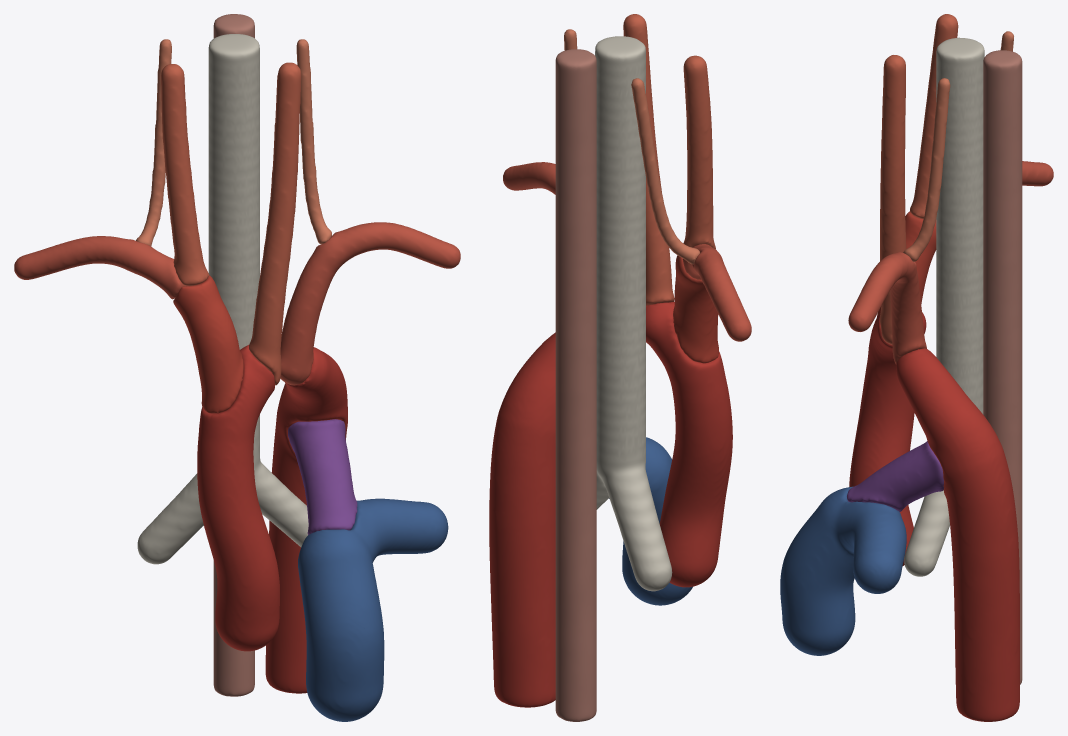
File: aorta_iaa_b.glb
3 views of the same model, side by side, from view 1: azimuth 30°, elevation 25°; view 2: azimuth 150°, elevation 25°; view 3: azimuth 270°, elevation 25° (orthographic). The views are drawn at different scales.
Parts seen in each view (by area): view 1: aorta, trachea, pulmonary_trunk, left_common_carotid, left_subclavian, right_common_carotid, patent_ductus, brachiocephalic_trunk, right_subclavian, oesophagus, left_vertebral, right_vertebral; view 2: aorta, oesophagus, trachea, right_common_carotid, brachiocephalic_trunk, left_common_carotid, right_subclavian, right_vertebral, pulmonary_trunk, left_subclavian; view 3: aorta, trachea, oesophagus, pulmonary_trunk, left_common_carotid, left_subclavian, patent_ductus, right_common_carotid, left_vertebral, brachiocephalic_trunk, right_subclavian.
Boxes of the visible parts, left/top/right/bottom form: aorta: left=197, top=345, right=347, bottom=693; trachea: left=137, top=34, right=308, bottom=564; pulmonary_trunk: left=298, top=498, right=448, bottom=721; left_common_carotid: left=249, top=62, right=301, bottom=385; left_subclavian: left=280, top=222, right=460, bottom=385; right_common_carotid: left=161, top=64, right=209, bottom=285; patent_ductus: left=288, top=419, right=357, bottom=534; brachiocephalic_trunk: left=173, top=275, right=243, bottom=413; right_subclavian: left=14, top=236, right=189, bottom=299; oesophagus: left=213, top=14, right=254, bottom=696; left_vertebral: left=296, top=39, right=331, bottom=244; right_vertebral: left=136, top=39, right=171, bottom=246; aorta: left=489, top=301, right=732, bottom=707; oesophagus: left=555, top=49, right=596, bottom=721; trachea: left=595, top=36, right=672, bottom=591; right_common_carotid: left=683, top=55, right=715, bottom=249; brachiocephalic_trunk: left=673, top=250, right=718, bottom=363; left_common_carotid: left=623, top=14, right=674, bottom=305; right_subclavian: left=682, top=244, right=751, bottom=341; right_vertebral: left=631, top=78, right=700, bottom=264; pulmonary_trunk: left=609, top=437, right=692, bottom=605; left_subclavian: left=503, top=162, right=555, bottom=194; aorta: left=849, top=312, right=1019, bottom=721; trachea: left=904, top=37, right=984, bottom=576; oesophagus: left=983, top=50, right=1022, bottom=684; pulmonary_trunk: left=780, top=486, right=906, bottom=655; left_common_carotid: left=880, top=55, right=906, bottom=344; left_subclavian: left=848, top=252, right=926, bottom=364; patent_ductus: left=847, top=441, right=943, bottom=511; right_common_carotid: left=910, top=14, right=958, bottom=218; left_vertebral: left=903, top=78, right=950, bottom=261; brachiocephalic_trunk: left=877, top=211, right=936, bottom=316; right_subclavian: left=1022, top=161, right=1053, bottom=186.
Bounding box in the file's own units: 12.31 × 22.78 × 8.97.
